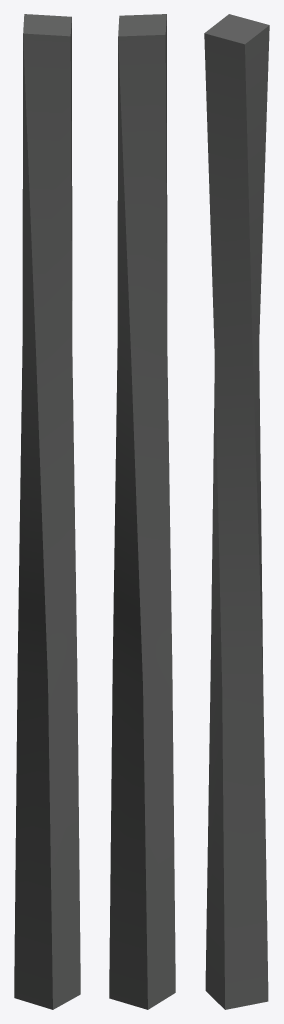
The model's file is ice_ice_pole_iron_2.5.fbx.
The picture shows the model from 3 angles, left to right: view 1: azimuth 30°, elevation 25°; view 2: azimuth 210°, elevation 25°; view 3: azimuth 270°, elevation 25°; orthographic projection.
Parts seen in each view (by area): view 1: ice_pole_iron_2.5; view 2: ice_pole_iron_2.5; view 3: ice_pole_iron_2.5.
Boxes of the visible parts, x1,y1,x2,y2 form: ice_pole_iron_2.5: (14, 14, 80, 1009); ice_pole_iron_2.5: (109, 14, 175, 1009); ice_pole_iron_2.5: (204, 14, 269, 1009).
Bounding box in the file's own units: 0.1506 × 2.47 × 0.1512.
1 material, 1 textured.
